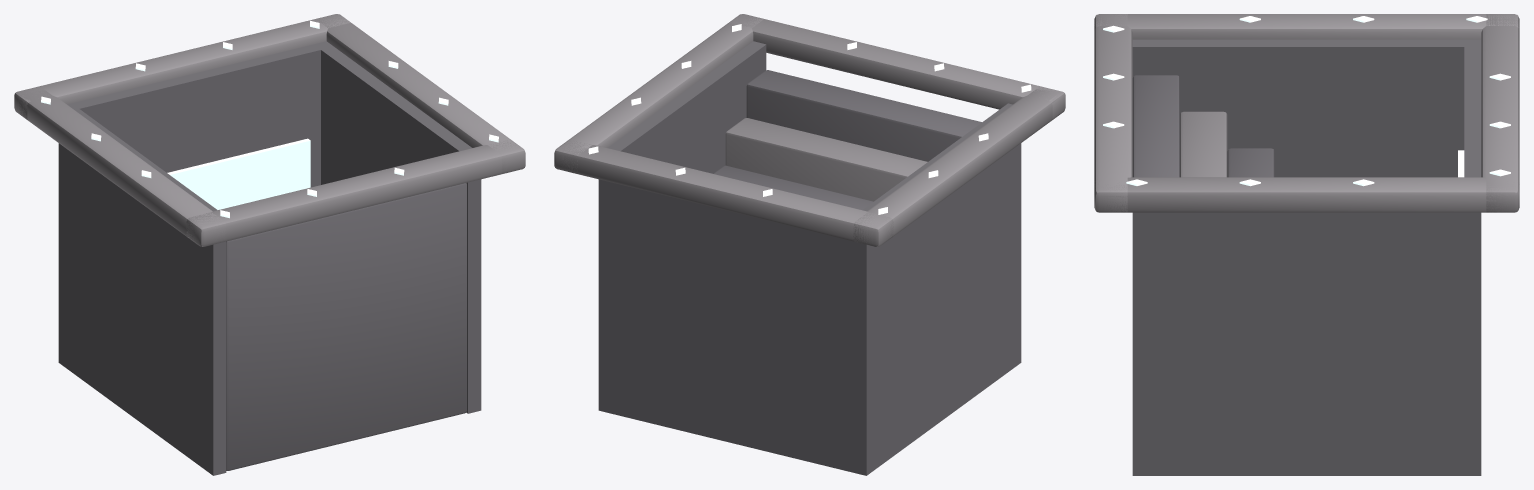
File: exit.glb
The picture shows the model from 3 angles, left to right: view 1: azimuth 30°, elevation 25°; view 2: azimuth 150°, elevation 25°; view 3: azimuth 270°, elevation 25°; orthographic projection. The views are drawn at different scales.
Visible parts, largest first — view 1: exit; view 2: exit; view 3: exit.
Part boxes in pixels (<box>): exit: <box>14,14,525,475</box>; exit: <box>554,14,1065,475</box>; exit: <box>1094,14,1519,475</box>.
Bounding box in the file's own units: 1 × 0.784 × 1.
